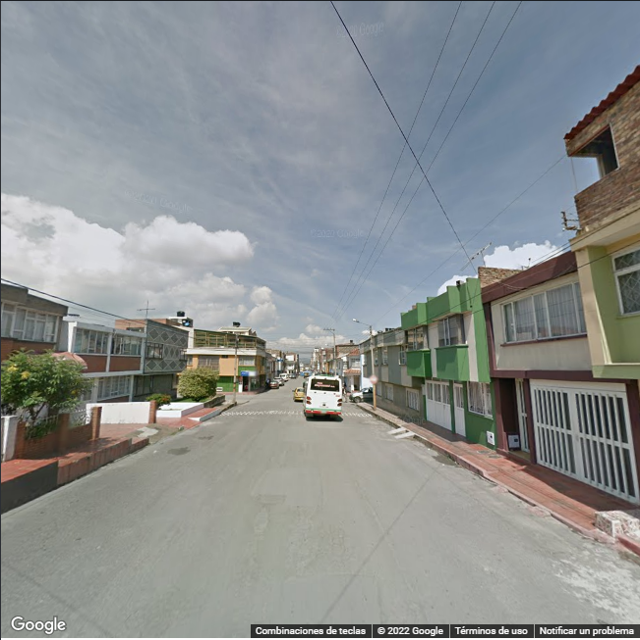D00: (64, 528, 152, 621)
D20: (288, 510, 358, 566)
